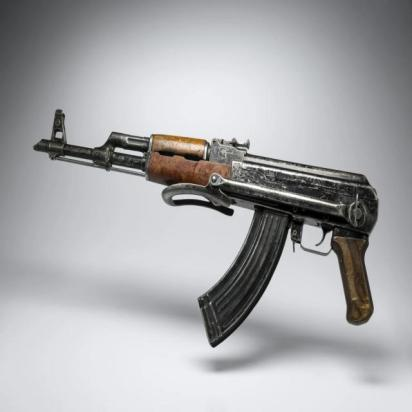Gun: (27, 85, 392, 366)
